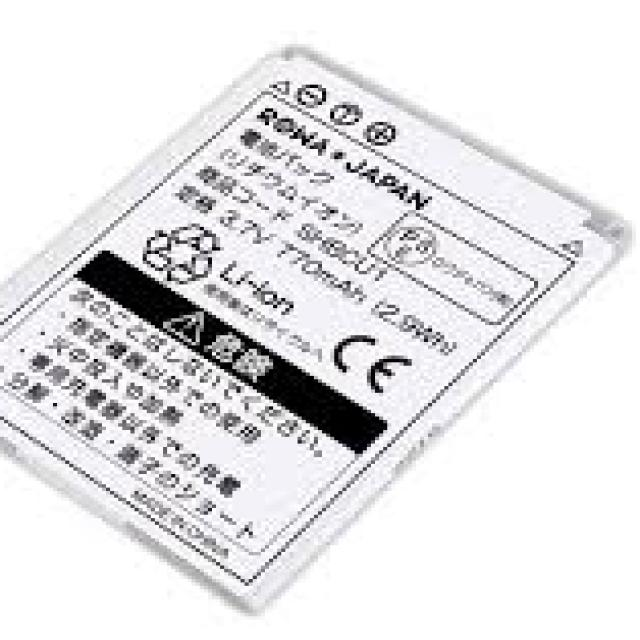organic: (0, 47, 631, 613)
